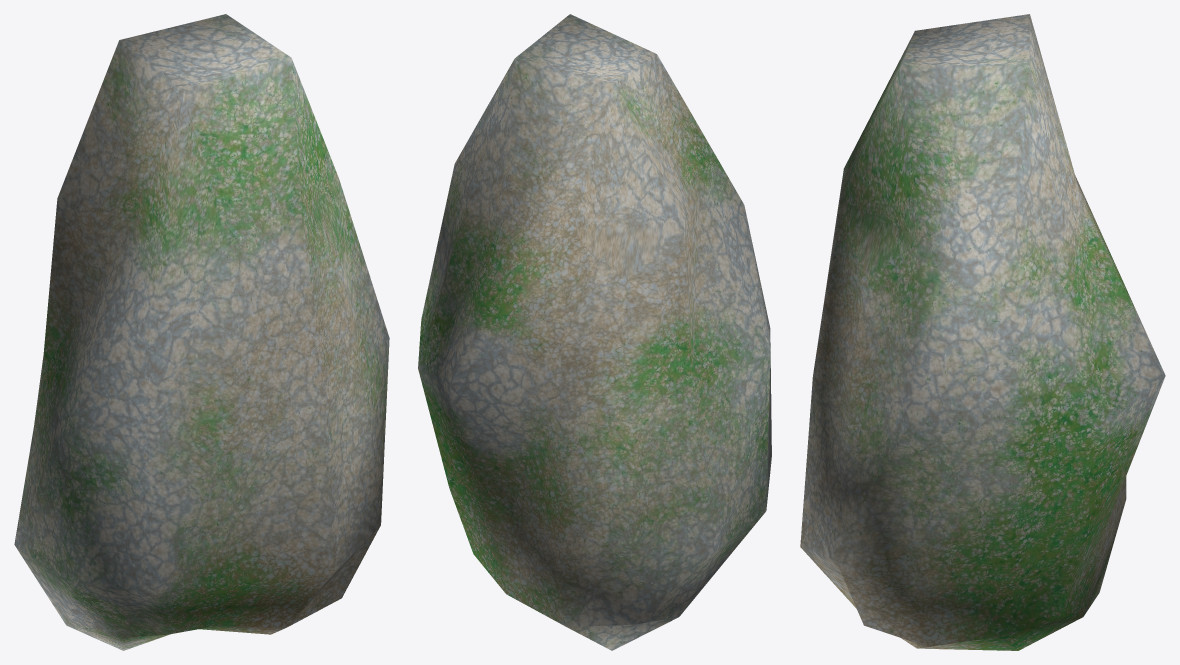
The model's file is stone2.obj.
3 views of the same model, side by side, from view 1: azimuth 30°, elevation 25°; view 2: azimuth 150°, elevation 25°; view 3: azimuth 270°, elevation 25° (orthographic). The views are drawn at different scales.
Parts seen in each view (by area): view 1: __tmp___stone2; view 2: __tmp___stone2; view 3: __tmp___stone2.
Part boxes in pixels (left/top/right/bottom): __tmp___stone2: left=14, top=14, right=389, bottom=650; __tmp___stone2: left=418, top=14, right=771, bottom=650; __tmp___stone2: left=800, top=14, right=1165, bottom=650.
Bounding box in the file's own units: 68.02 × 125 × 66.55.
1 material, 1 textured.
